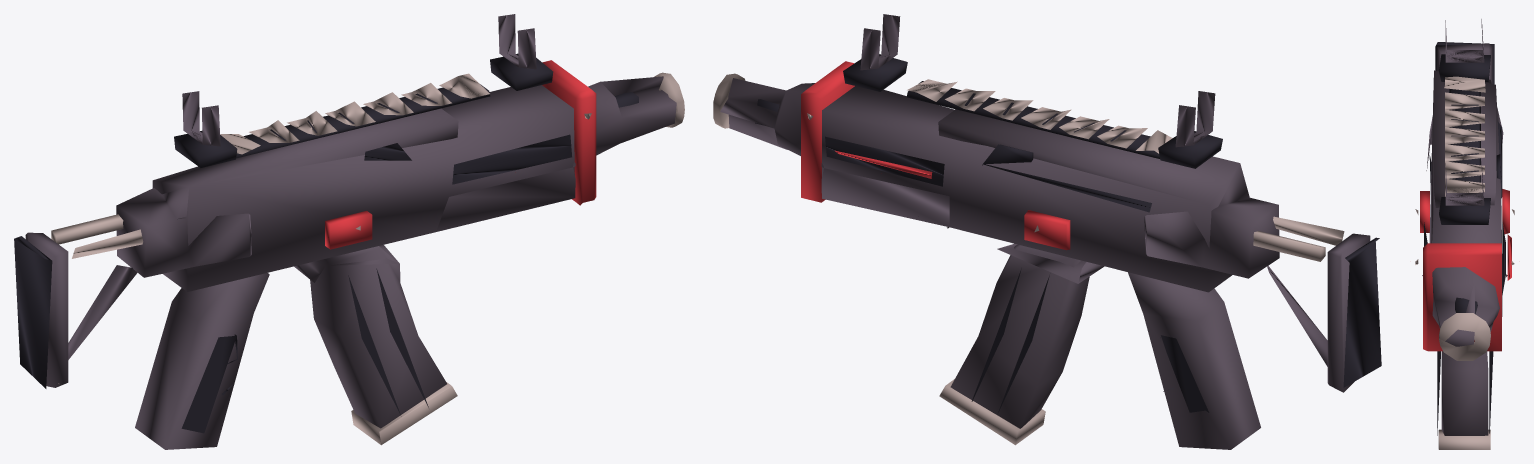
3 renders of one model, left to right at view 1: azimuth 30°, elevation 25°; view 2: azimuth 150°, elevation 25°; view 3: azimuth 270°, elevation 25°, orthographic. The views are drawn at different scales.
Bounding box in the file's own units: 0.8395 × 0.4733 × 0.1341.
